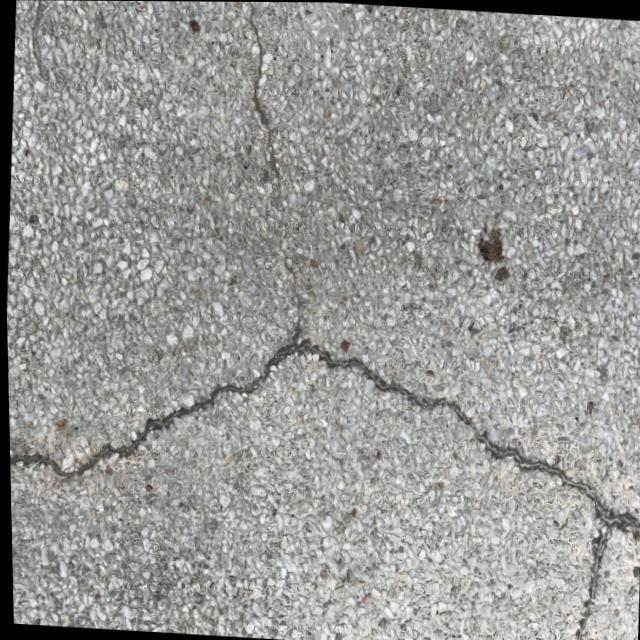Crack: (5, 306, 640, 612), (219, 1, 324, 321)
